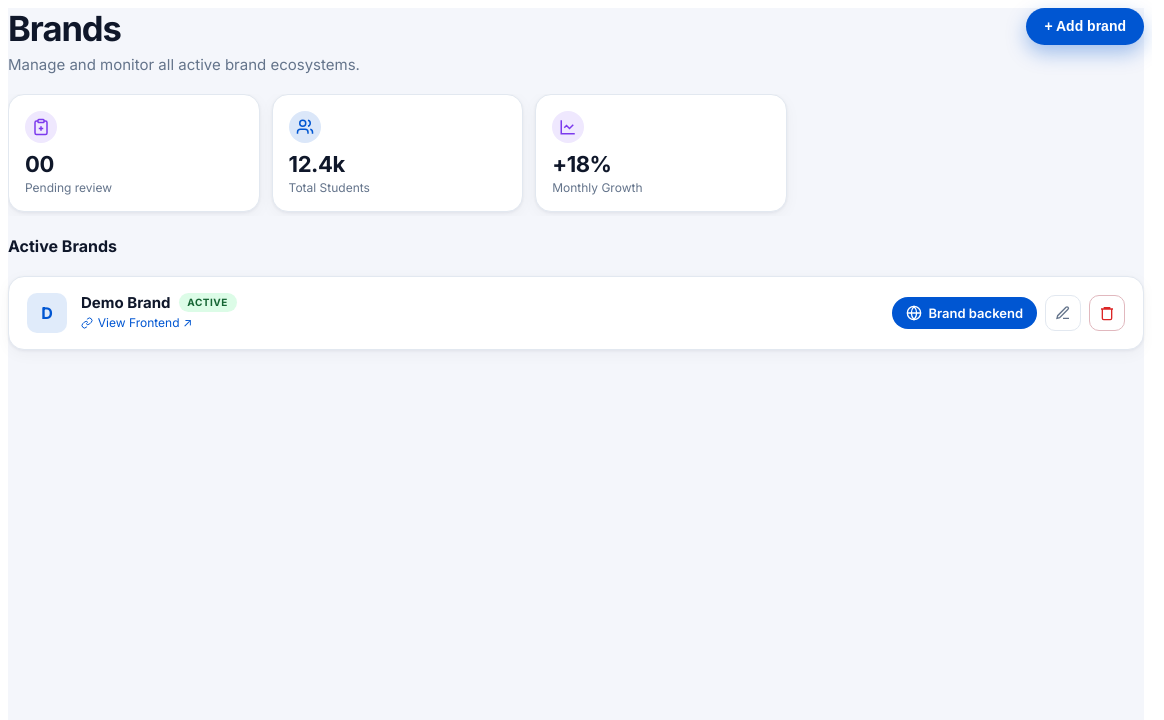
BrandsPage › renders brand list and add brand controls
The width and height of the screenshot is (1164, 720).
Click the button "+ Add brand". click: (1085, 26)
box: [1026,8,1144,45]
(page scrolled)
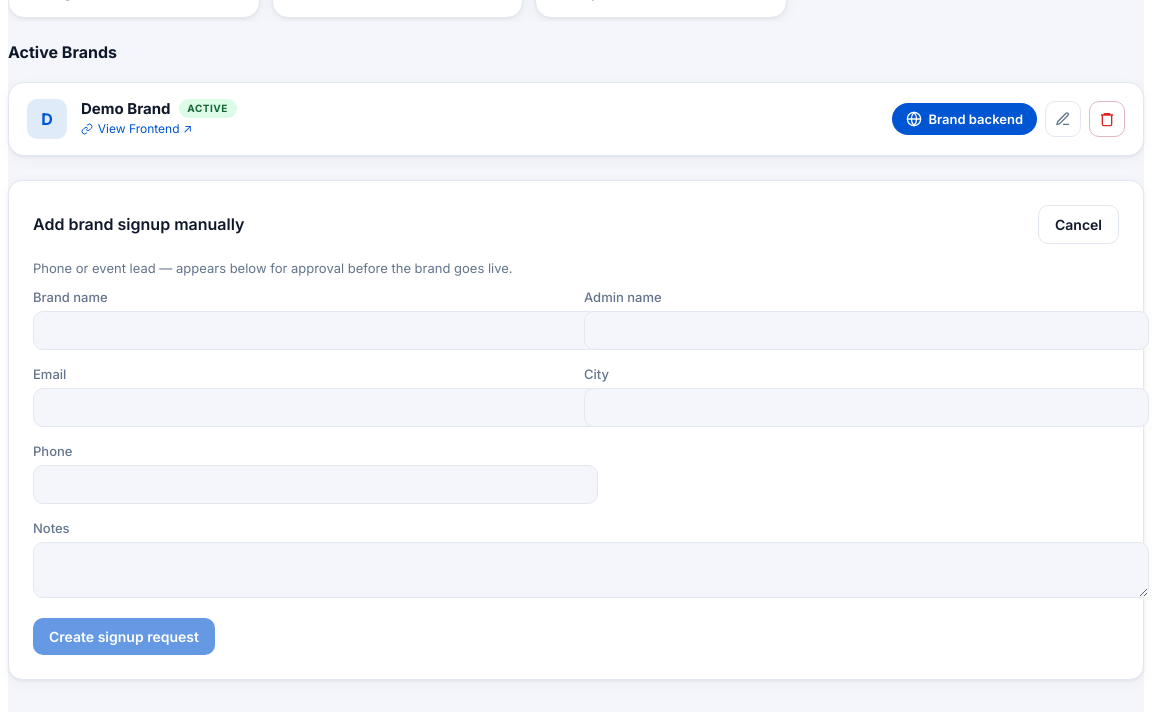
Check: the button "Create signup request" is shown, box [33,618,215,655]
